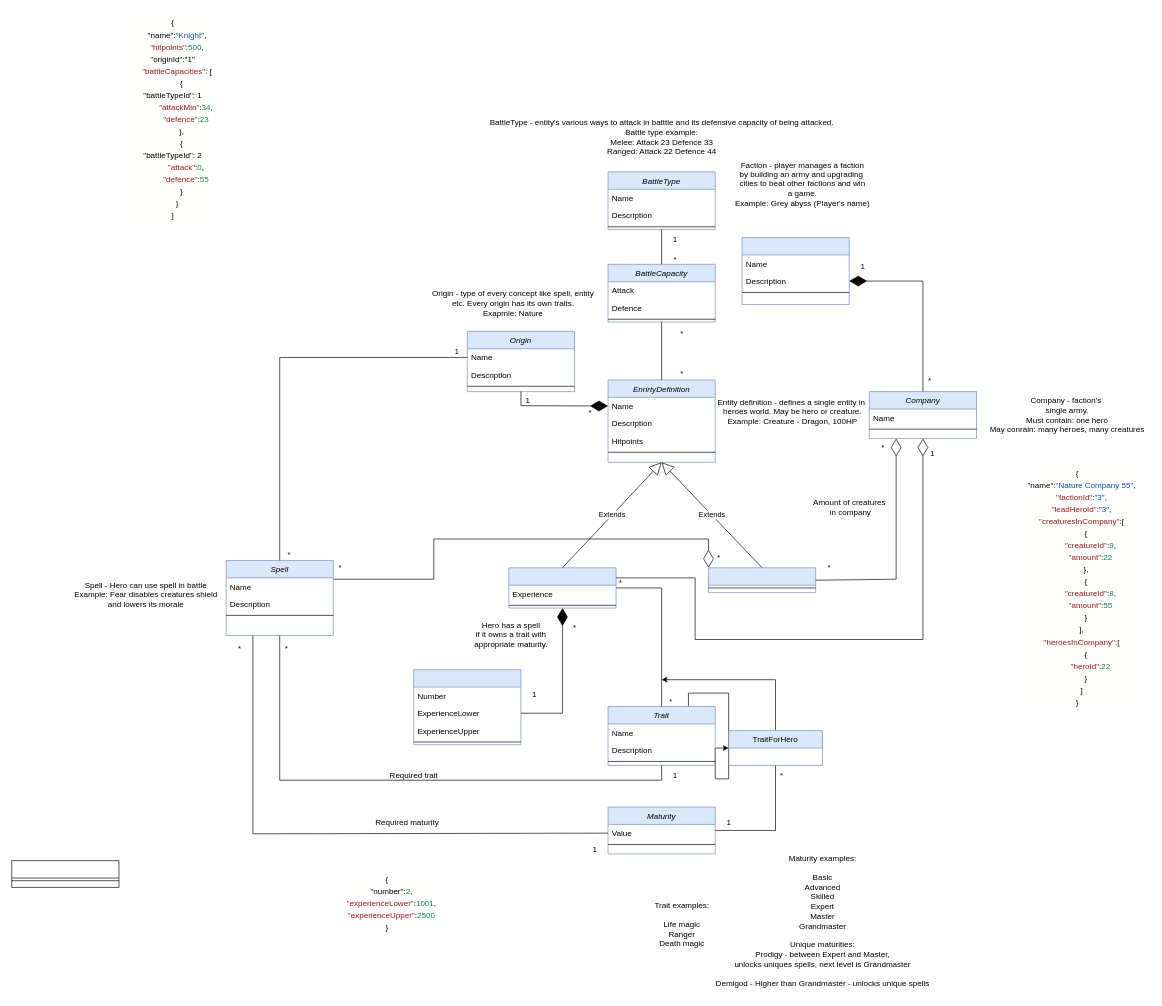
Some shapes in this 1162 by 1006 pixel diagram are drawn without their labels. Here are the shapes that lost their labels. From the top down, the box of each, then its label:
(741, 237, 849, 305): Faction
(508, 567, 616, 608): Hero
(708, 567, 816, 593): Creature
(413, 669, 521, 745): Level
(11, 860, 119, 887): Battle
